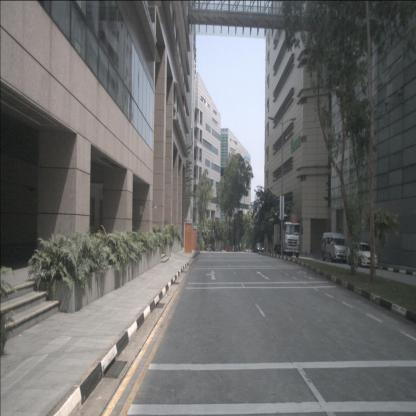vehicle-car: (321, 233, 348, 263), (347, 243, 378, 269), (255, 243, 264, 253), (207, 244, 212, 252)
vehicle-truck: (274, 222, 300, 258)
